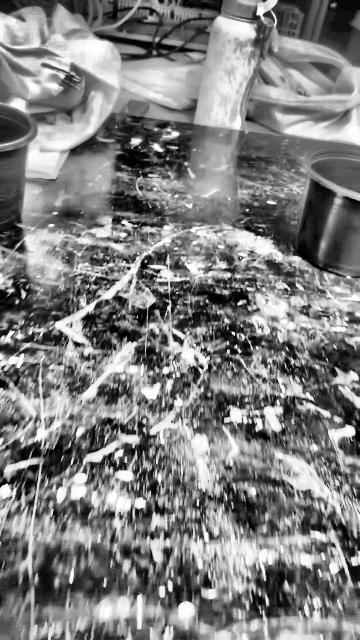pot: (295, 147, 359, 277), (0, 104, 36, 232)
